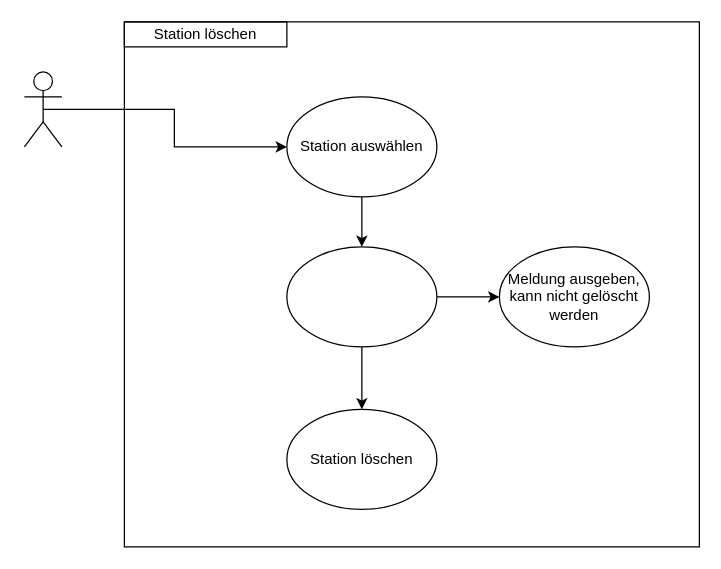
The diagram is 721 pixels wide and 569 high, and some of its shapes have lost their labels. The centre of each missing label's shape, as x and y in pixels:
"Admin" belongs at [42,109].
"Prüfen ob Station in Linie verwendet wird" belongs at [361,296].
